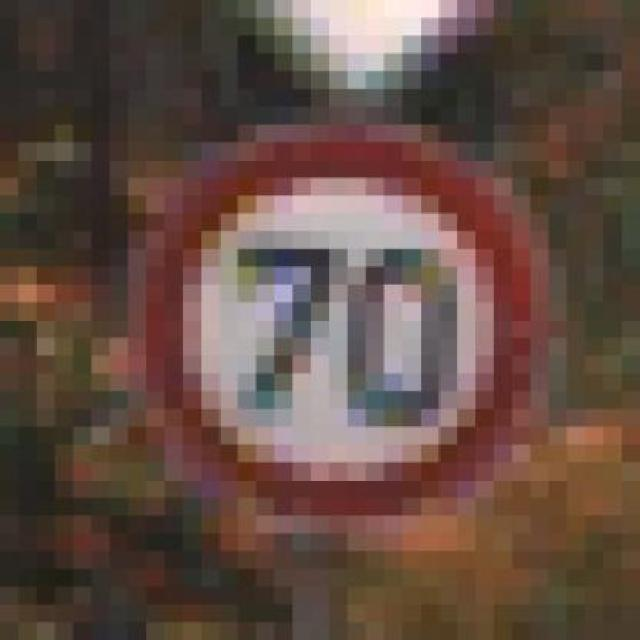forb_speed_over_70: (158, 136, 529, 510)
